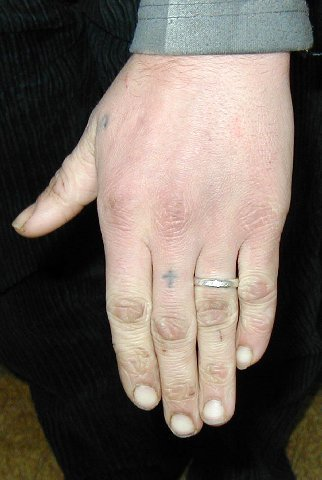tatu9_krest: (161, 262, 181, 293)
